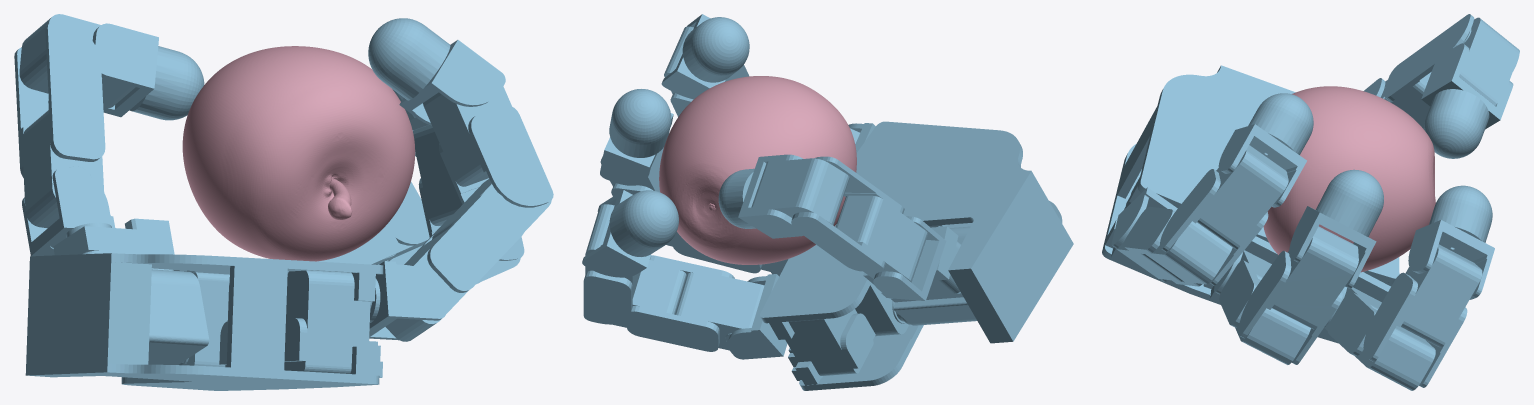
3 renders of one model, left to right at view 1: azimuth 30°, elevation 25°; view 2: azimuth 150°, elevation 25°; view 3: azimuth 270°, elevation 25°, orthographic. The views are drawn at different scales.
Parts seen in each view (by area): view 1: world; view 2: world; view 3: world.
Part boxes in pixels (left/top/right/bottom): world: left=14, top=14, right=553, bottom=390; world: left=582, top=14, right=1073, bottom=390; world: left=1102, top=14, right=1519, bottom=390.
Bounding box in the file's own units: 0.1838 × 0.1385 × 0.1689.
